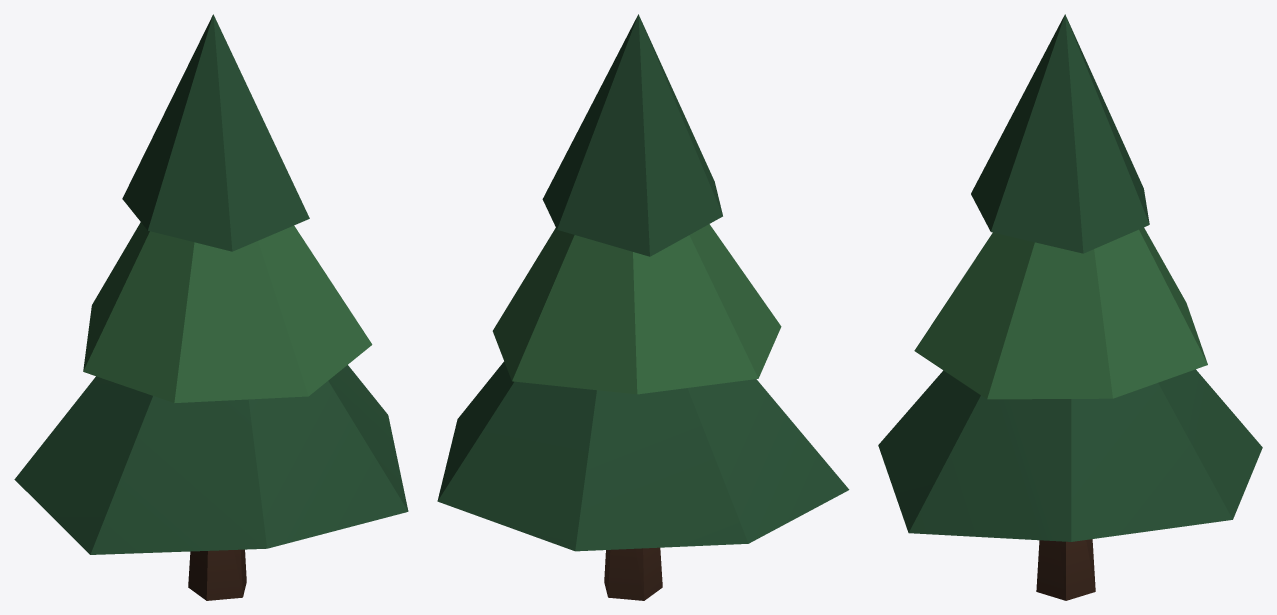
Rendered from tree_pine_1.glb.
3 views of the same model, side by side, from view 1: azimuth 30°, elevation 25°; view 2: azimuth 150°, elevation 25°; view 3: azimuth 270°, elevation 25° (orthographic).
Parts seen in each view (by area): view 1: tree_pine_1; view 2: tree_pine_1; view 3: tree_pine_1.
Part boxes in pixels (box(x1,y1,x2,y2)): tree_pine_1: box(14, 14, 408, 600); tree_pine_1: box(437, 14, 849, 600); tree_pine_1: box(878, 14, 1262, 600).
Bounding box in the file's own units: 0.7582 × 1.21 × 0.7395.
